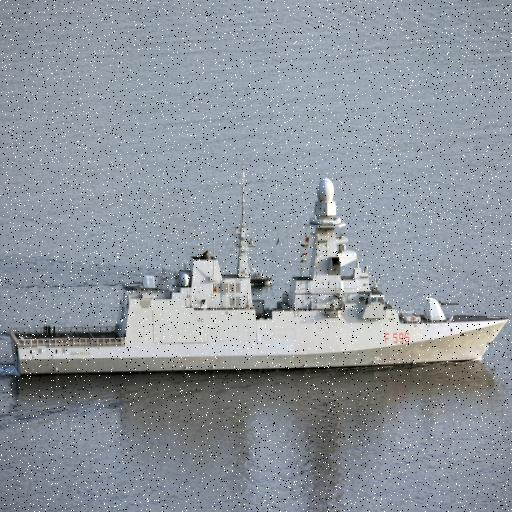Fragata: (6, 172, 512, 386)
